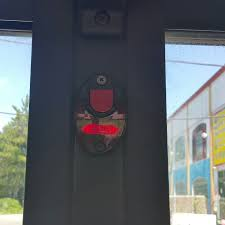bell: (70, 69, 132, 155)
